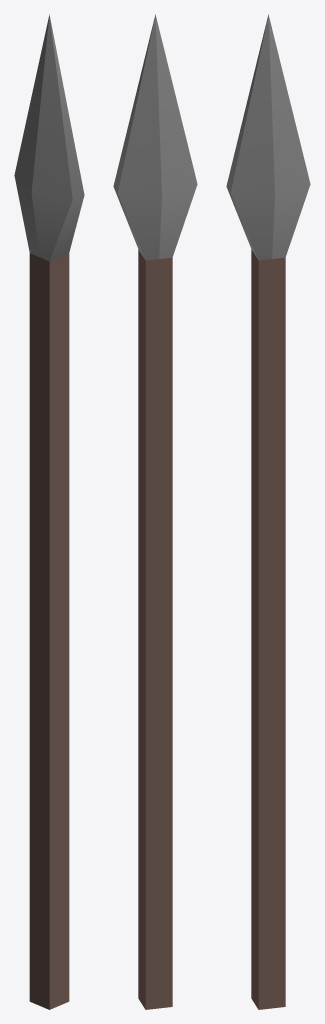
File: wepEnemy.fbx
The picture shows the model from 3 angles, left to right: view 1: azimuth 90°, elevation 25°; view 2: azimuth 150°, elevation 25°; view 3: azimuth 330°, elevation 25°; orthographic projection.
Visible parts, largest first — view 1: wepEnemy; view 2: wepEnemy; view 3: wepEnemy.
Boxes of the visible parts, bbox=[...] form: wepEnemy: bbox=[14, 14, 84, 1009]; wepEnemy: bbox=[113, 14, 197, 1009]; wepEnemy: bbox=[226, 14, 310, 1009].
Bounding box in the file's own units: 5.41 × 84.08 × 5.41.
